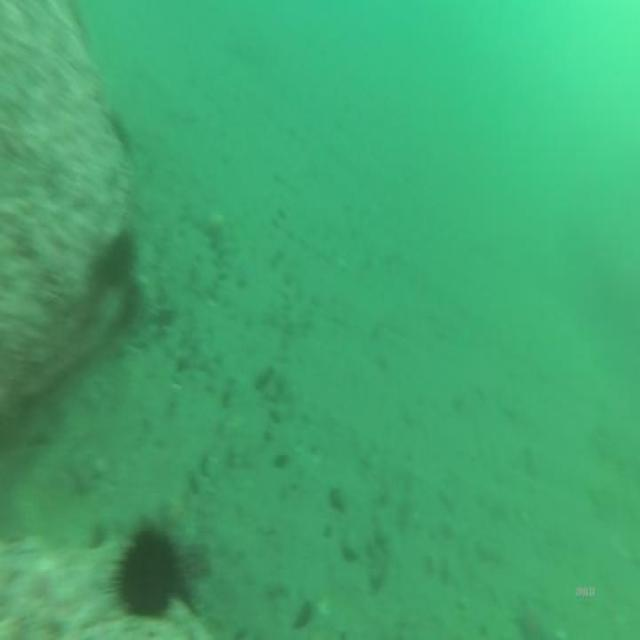echinus: (121, 534, 177, 615), (96, 237, 132, 289)
